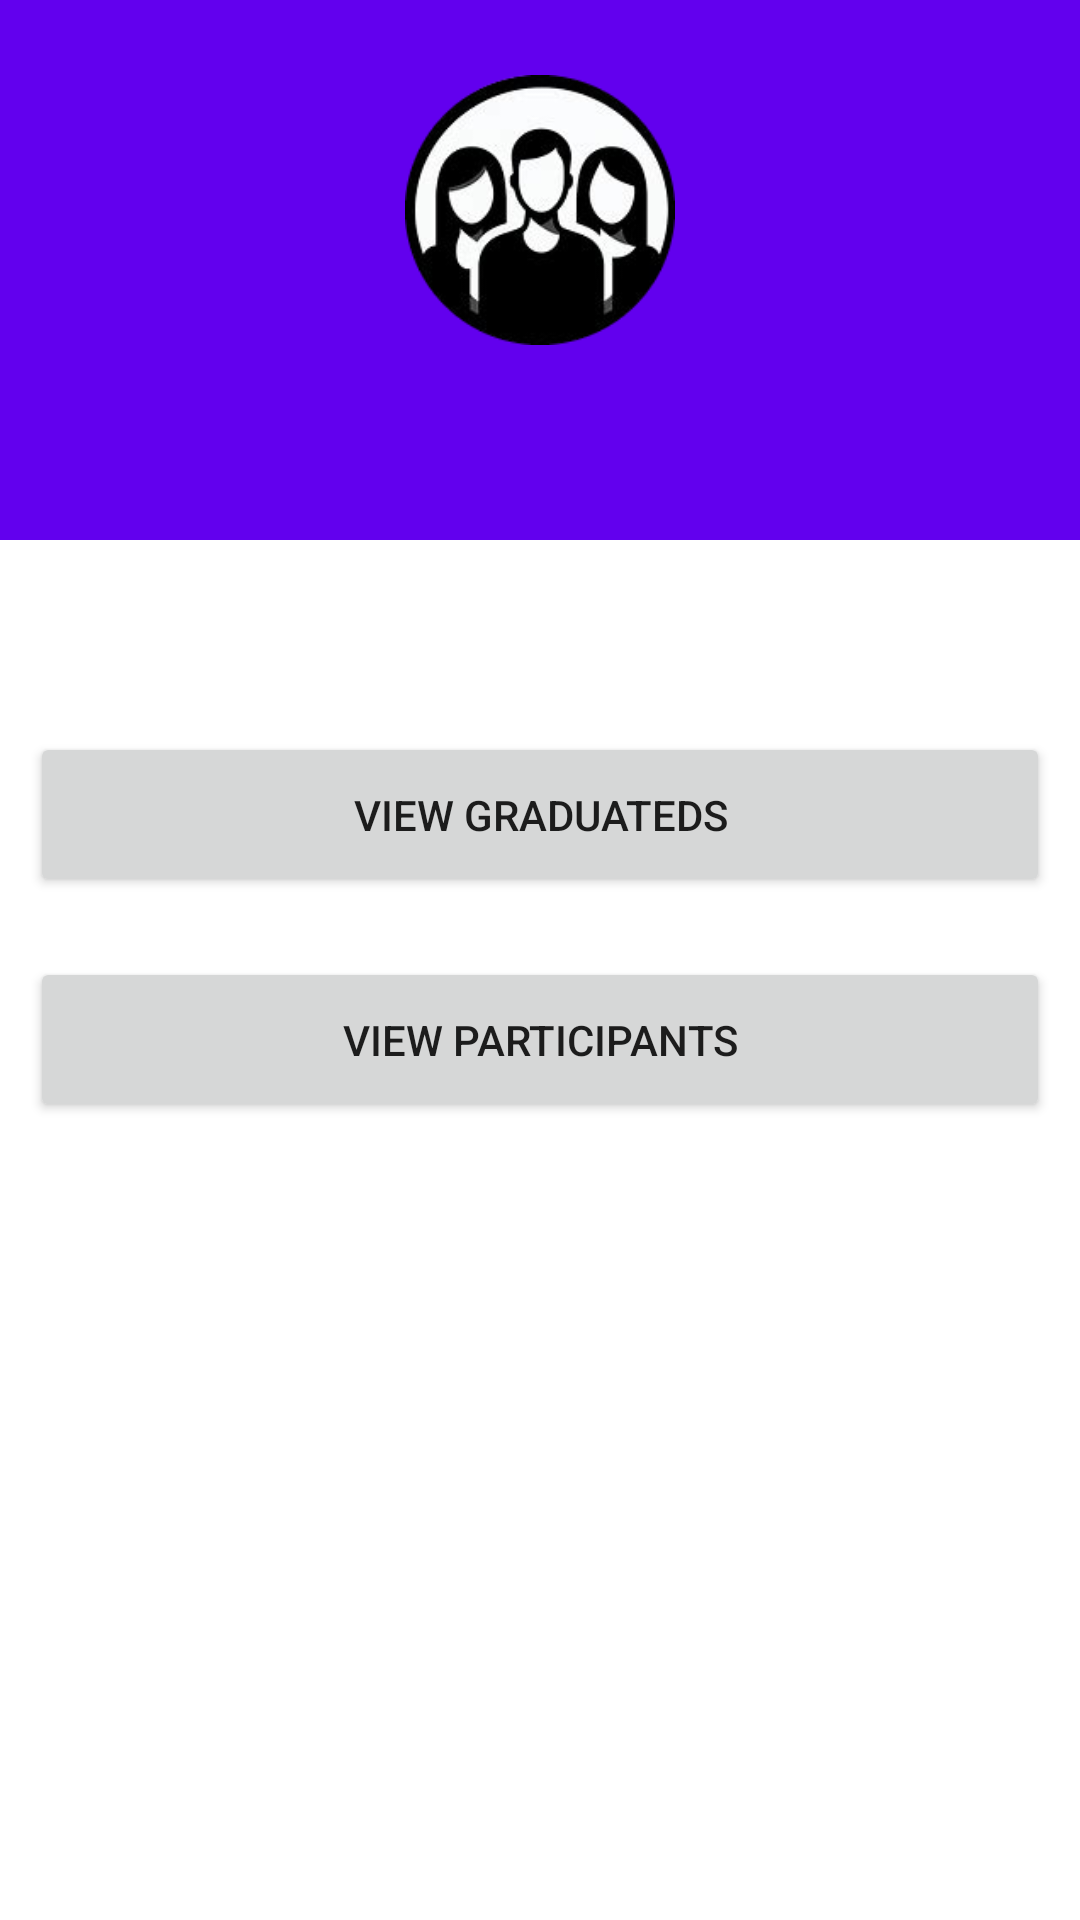

Named icons in this screenshot (1080 × 1920) and their bounding boxes, (x1, y1, x2, y2):
Community avatar: (405, 75, 675, 345)
